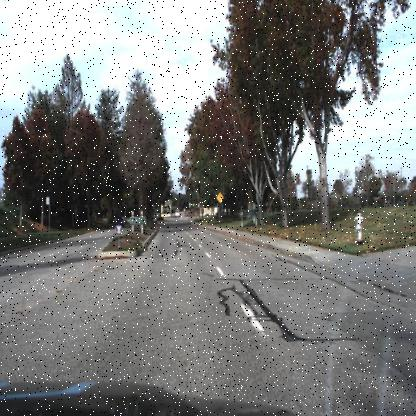car: (113, 216, 125, 228)
